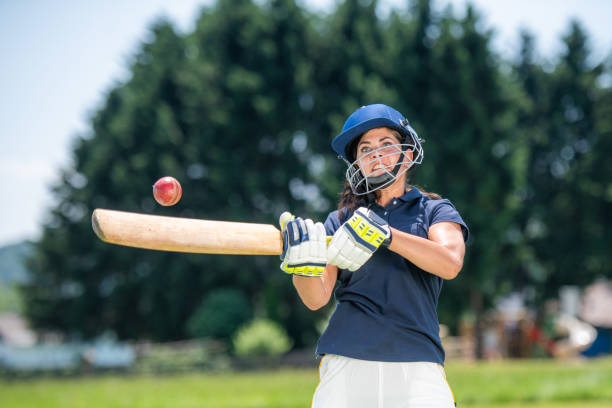bottom left: (82, 195, 107, 220)
bottom right: (89, 229, 115, 255)
top left: (262, 216, 281, 235)
top right: (269, 242, 291, 264)
